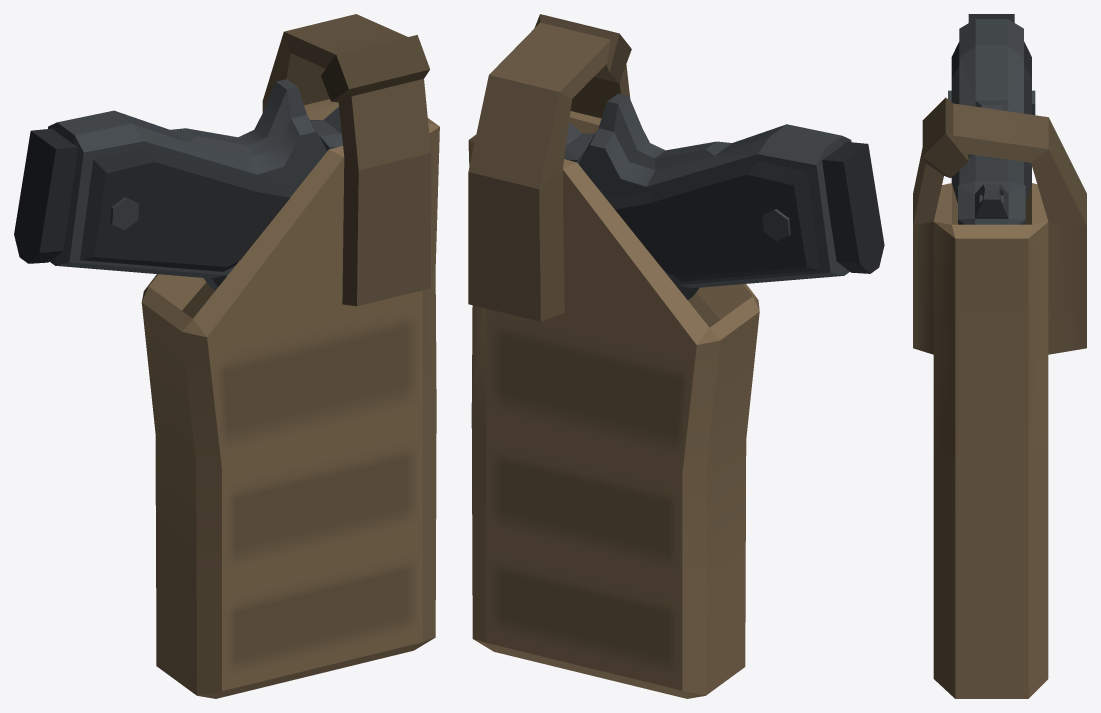
The model's file is SM_Chr_Attach_Holster_Pistol_01.fbx.
The picture shows the model from 3 angles, left to right: view 1: azimuth 30°, elevation 25°; view 2: azimuth 150°, elevation 25°; view 3: azimuth 270°, elevation 25°; orthographic projection. The views are drawn at different scales.
Parts seen in each view (by area): view 1: SM_Chr_Attach_Holster_Pistol_01; view 2: SM_Chr_Attach_Holster_Pistol_01; view 3: SM_Chr_Attach_Holster_Pistol_01.
Part boxes in pixels (x1,y1,x2,y2): SM_Chr_Attach_Holster_Pistol_01: (14, 14, 439, 698); SM_Chr_Attach_Holster_Pistol_01: (468, 14, 884, 698); SM_Chr_Attach_Holster_Pistol_01: (913, 14, 1086, 698).
Size of the model in its own units: 22.13 by 33.12 by 9.28.
